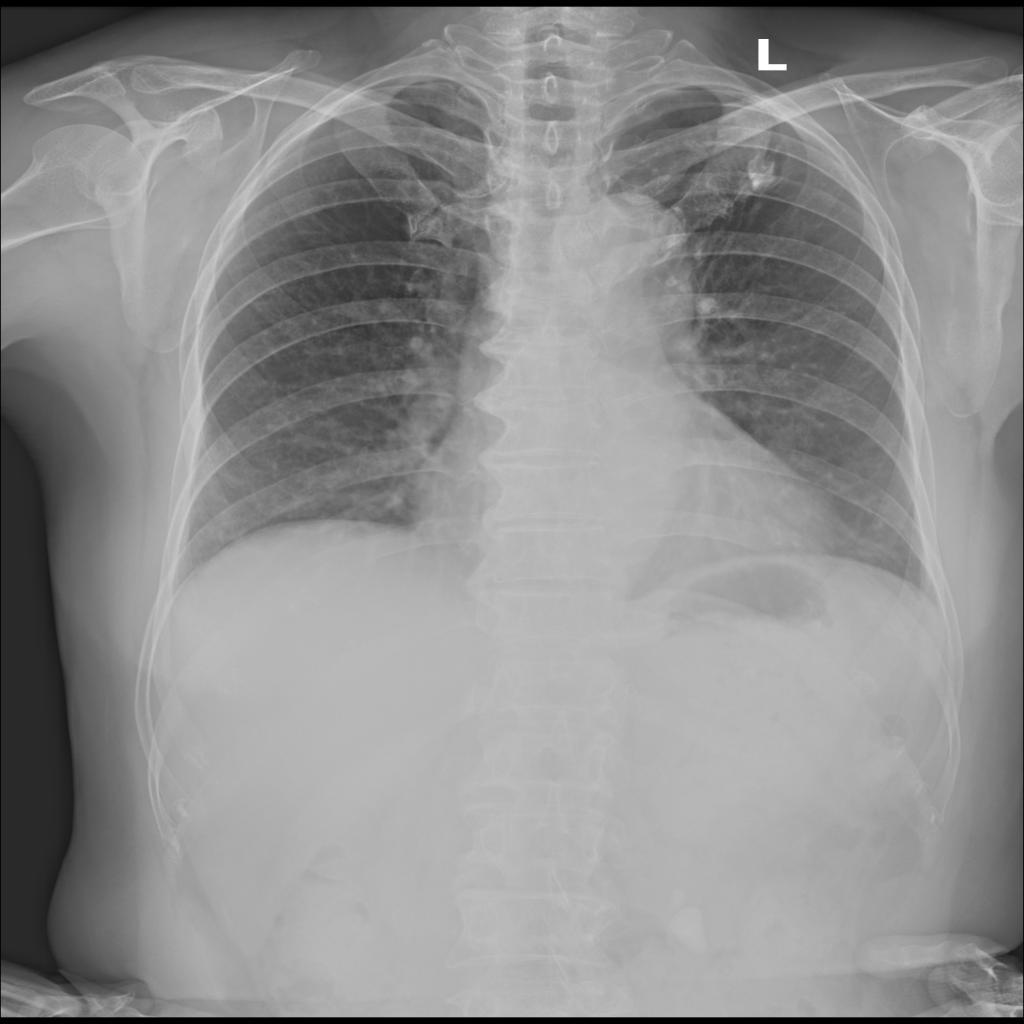Nodule: (745, 134, 789, 197)
